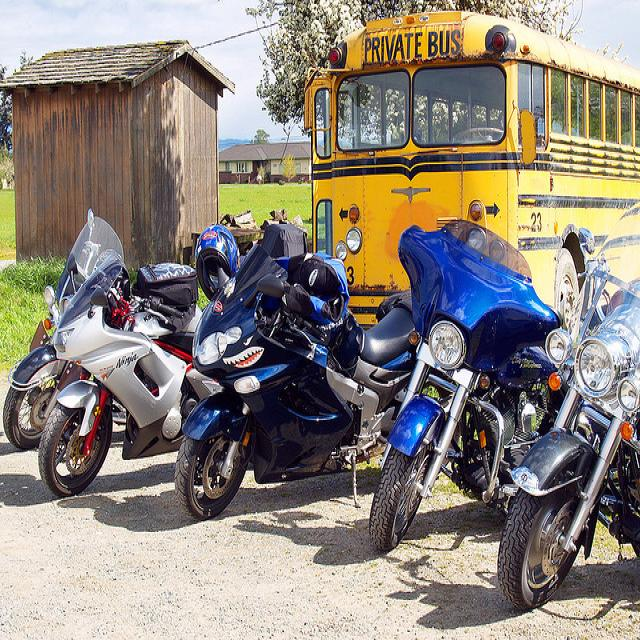motor: (172, 243, 416, 526), (373, 219, 559, 552), (497, 206, 640, 611), (1, 213, 197, 454), (41, 254, 201, 502)
